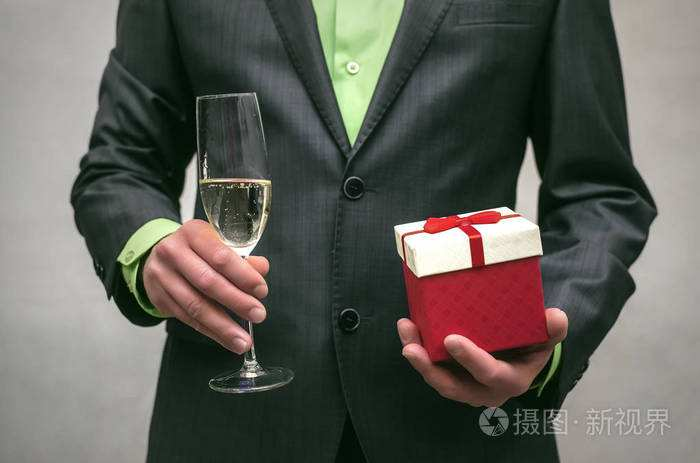no-phone: (142, 90, 301, 395), (391, 203, 571, 411)
